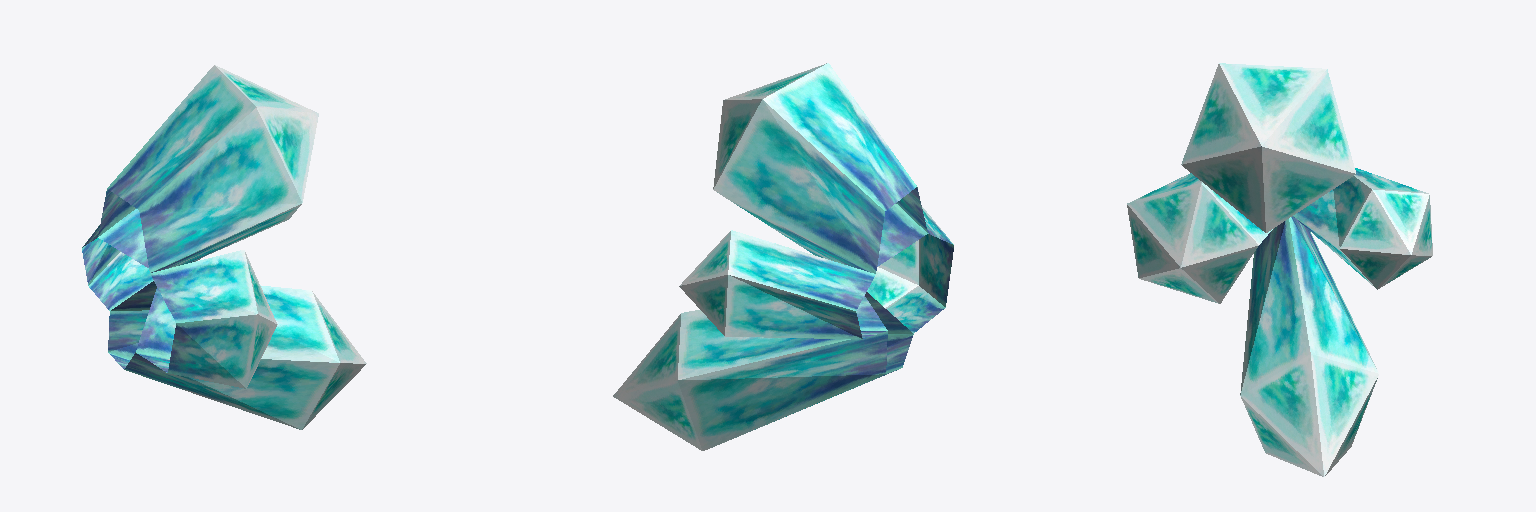
3 renders of one model, left to right at view 1: azimuth 30°, elevation 25°; view 2: azimuth 150°, elevation 25°; view 3: azimuth 270°, elevation 25°, orthographic.
Parts seen in each view (by area): view 1: caveminecrystalformation03; view 2: caveminecrystalformation03; view 3: caveminecrystalformation03.
Boxes of the visible parts, x1=… form: caveminecrystalformation03: x1=82, y1=65, x2=366, y2=429; caveminecrystalformation03: x1=613, y1=63, x2=953, y2=450; caveminecrystalformation03: x1=1127, y1=63, x2=1432, y2=476.
Size of the model in its own units: 1.07 by 1.37 by 1.06.
Materials: 1 (1 with a texture image).